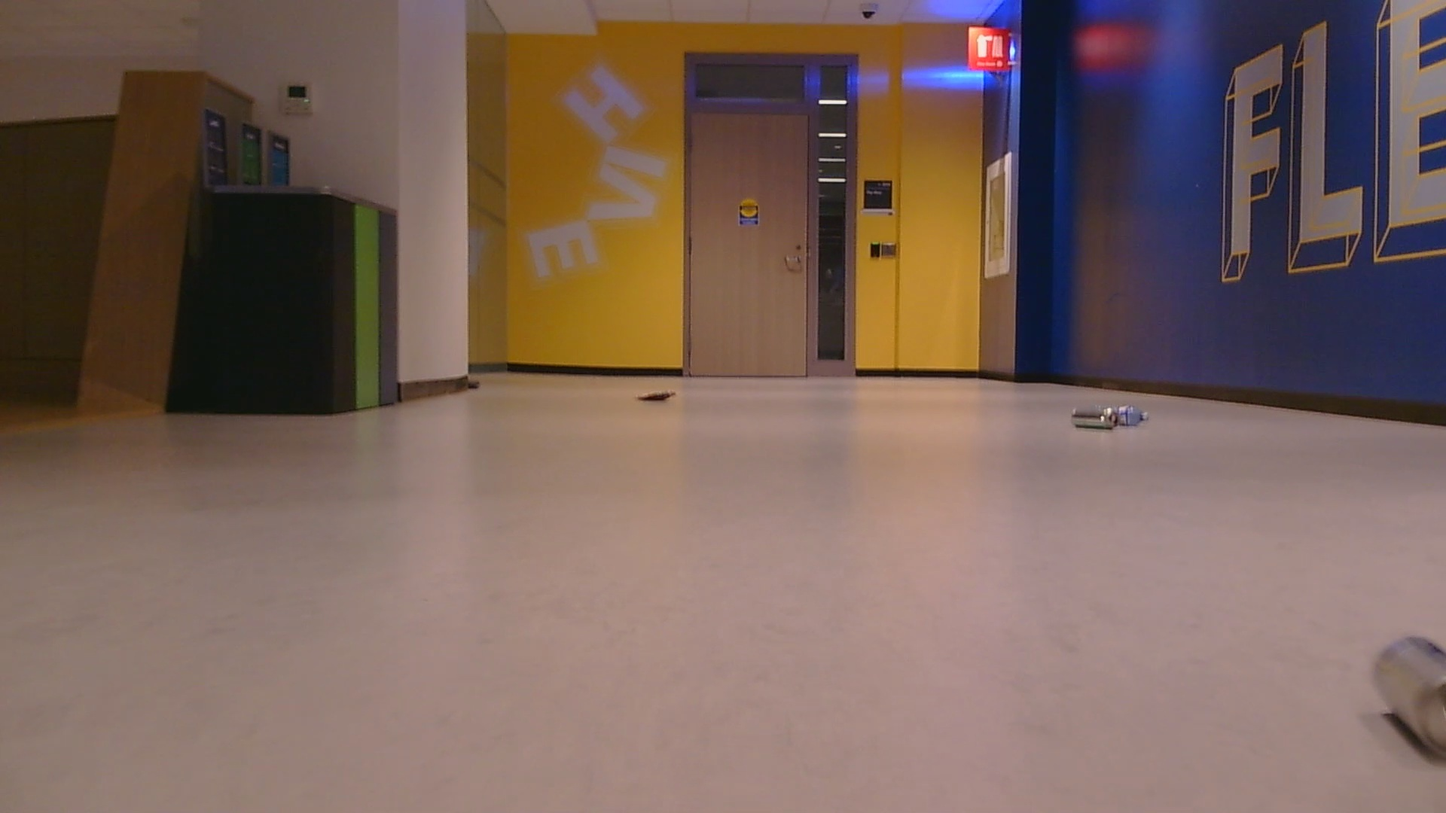can: (1371, 634, 1445, 788), (1069, 398, 1158, 437), (632, 376, 685, 403)
